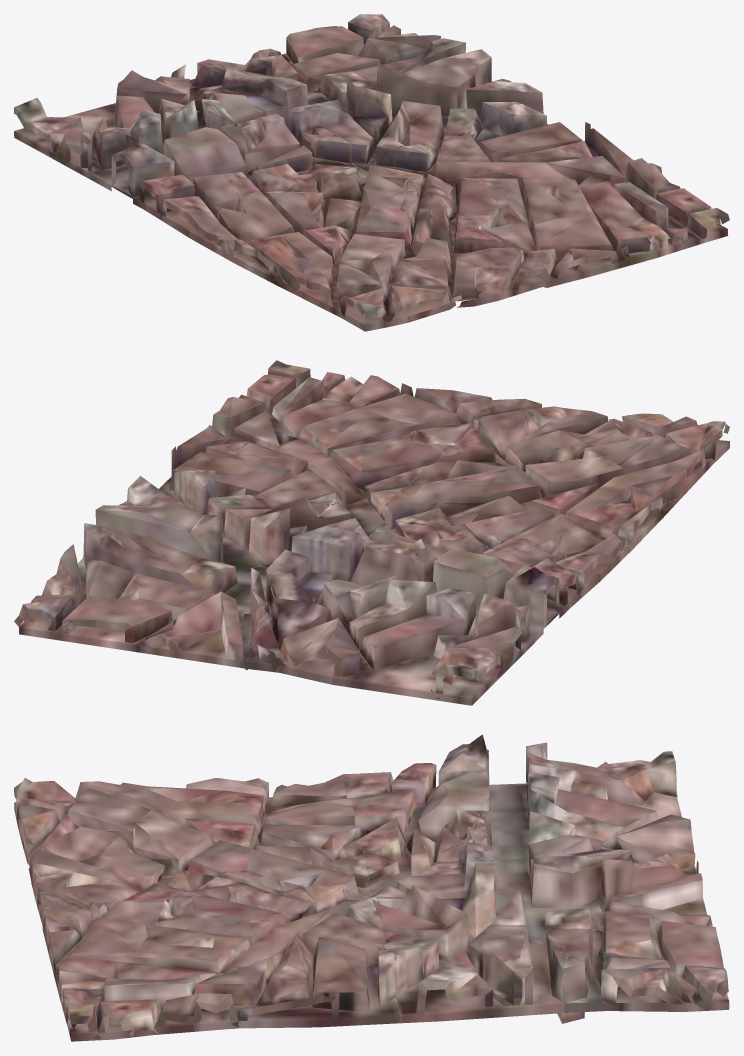
3 views of the same model, one above another, from view 1: azimuth 30°, elevation 25°; view 2: azimuth 150°, elevation 25°; view 3: azimuth 270°, elevation 25° (orthographic). The views are drawn at different scales.
Visible parts, largest first — view 1: Mesh_0; view 2: Mesh_0; view 3: Mesh_0.
Part boxes in pixels (x1,y1,x2,y2): Mesh_0: [14, 14, 729, 331]; Mesh_0: [14, 360, 729, 705]; Mesh_0: [14, 734, 729, 1041].
Bounding box in the file's own units: 535 × 86.54 × 660.
2 materials, 2 textured.
